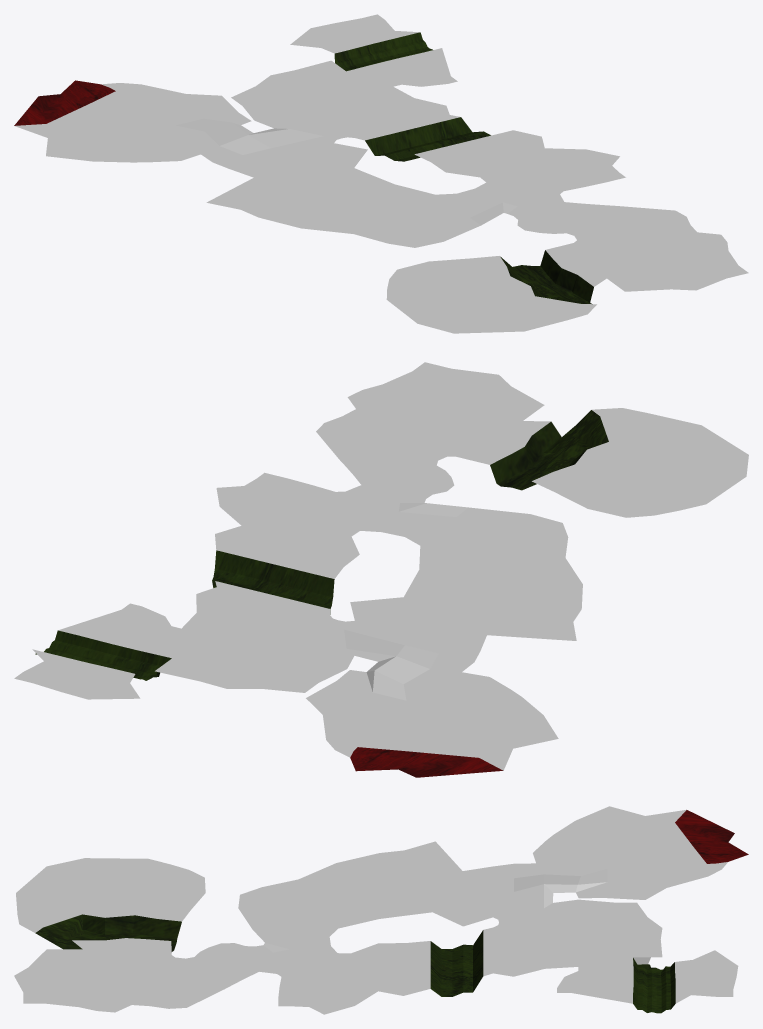
File: ChaoCaverna.FBX
The picture shows the model from 3 angles, top to bottom: view 1: azimuth 30°, elevation 25°; view 2: azimuth 150°, elevation 25°; view 3: azimuth 270°, elevation 25°; orthographic projection. The views are drawn at different scales.
Visible parts, largest first — view 1: ChaoCaverna; view 2: ChaoCaverna; view 3: ChaoCaverna.
Boxes of the visible parts, <box> form: ChaoCaverna: <box>14,14,748,333</box>; ChaoCaverna: <box>14,362,748,777</box>; ChaoCaverna: <box>14,806,748,1014</box>.
Size of the model in its own units: 7547 by 310 by 11244.
